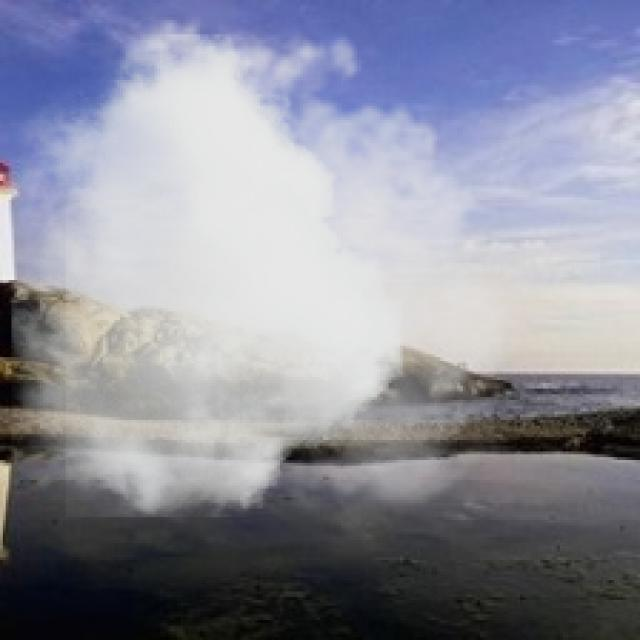Smoke: (11, 2, 543, 518)
